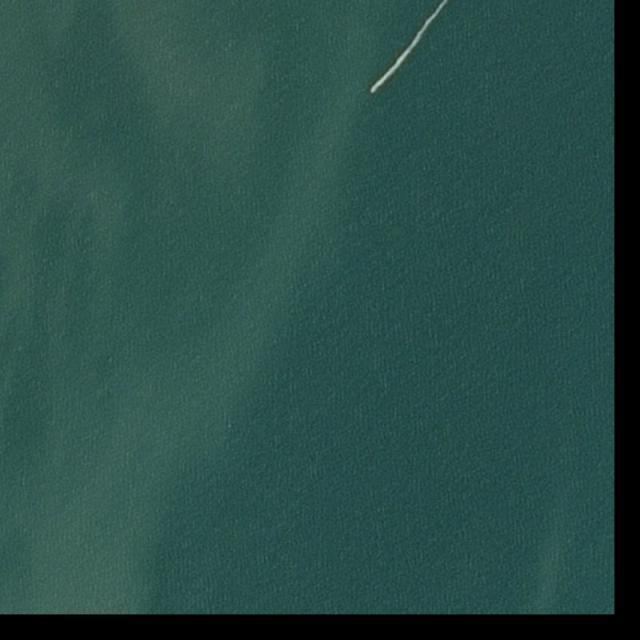ship: (371, 88, 375, 94)
